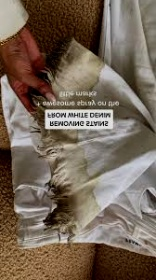earth: (47, 164, 97, 215), (57, 52, 96, 84), (45, 132, 79, 156)
